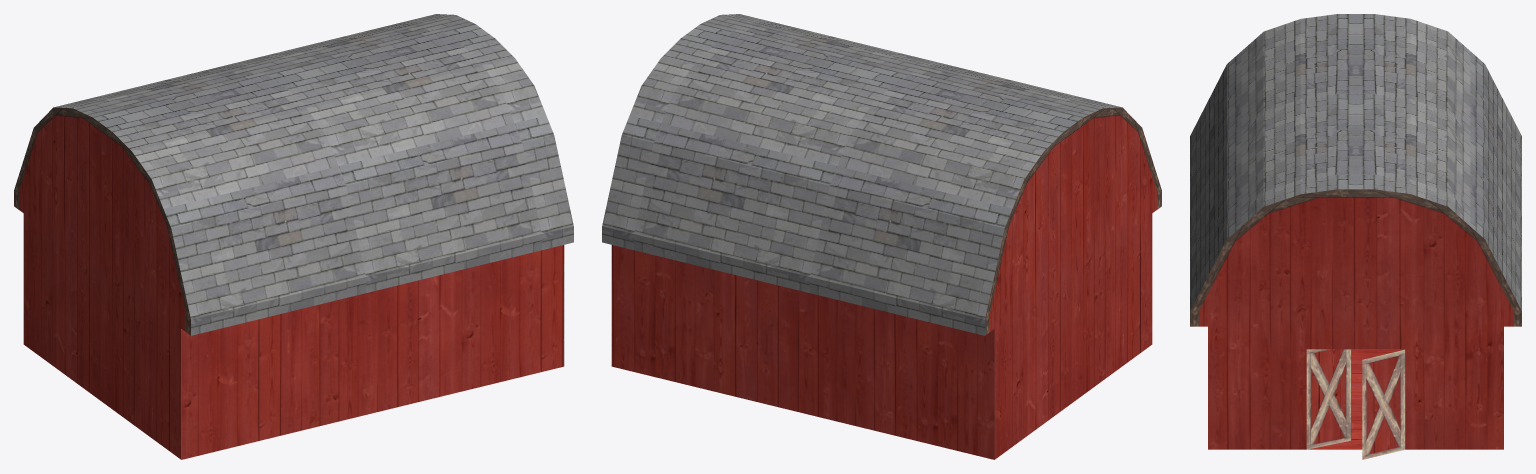
Rendered from barn.dae.
3 views of the same model, side by side, from view 1: azimuth 30°, elevation 25°; view 2: azimuth 150°, elevation 25°; view 3: azimuth 270°, elevation 25° (orthographic). The views are drawn at different scales.
Visible parts, largest first — view 1: Barn; view 2: Barn; view 3: Barn.
Part boxes in pixels (left/top/right/bottom): Barn: left=14, top=14, right=573, bottom=459; Barn: left=602, top=14, right=1161, bottom=459; Barn: left=1190, top=14, right=1521, bottom=459.
Bounding box in the file's own units: 2.65 × 2 × 1.73.
Materials: 1 (1 with a texture image).
